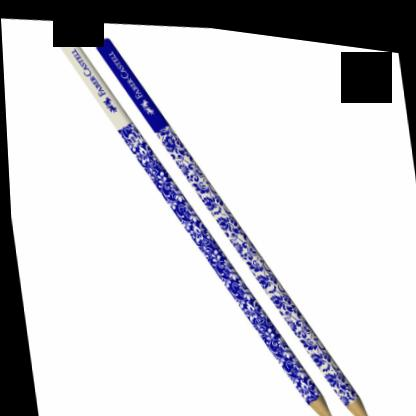pencil: (52, 24, 336, 416), (91, 29, 369, 416)
